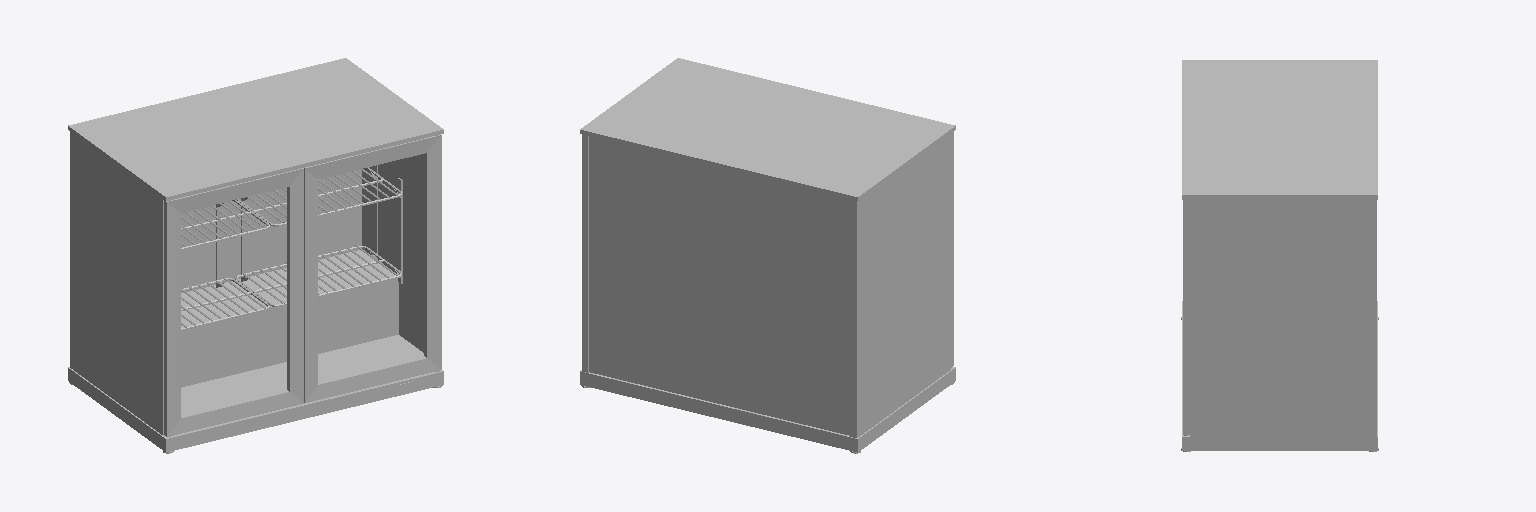
Rendered from fridgefixed1.obj.
3 views of the same model, side by side, from view 1: azimuth 30°, elevation 25°; view 2: azimuth 150°, elevation 25°; view 3: azimuth 270°, elevation 25° (orthographic).
Visible parts, largest first — view 1: fridgefixed1; view 2: fridgefixed1; view 3: fridgefixed1.
Boxes of the visible parts, box(x1,y1,x2,y2) form: fridgefixed1: box(68, 58, 443, 453); fridgefixed1: box(580, 58, 955, 453); fridgefixed1: box(1181, 60, 1378, 451).
Size of the model in its own units: 92.51 by 81.51 by 56.95.